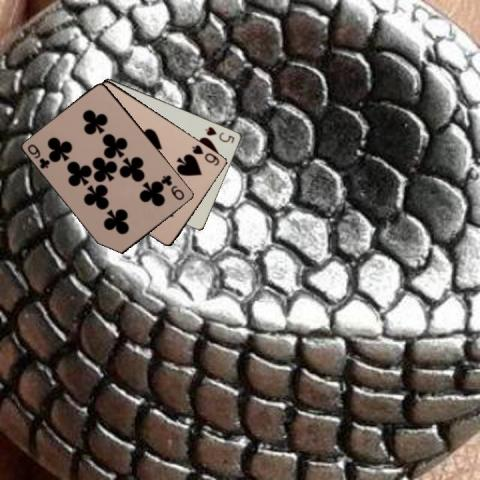5s: (202, 123, 236, 145)
6s: (189, 142, 221, 167)
9c: (159, 172, 186, 202), (25, 141, 52, 170)
